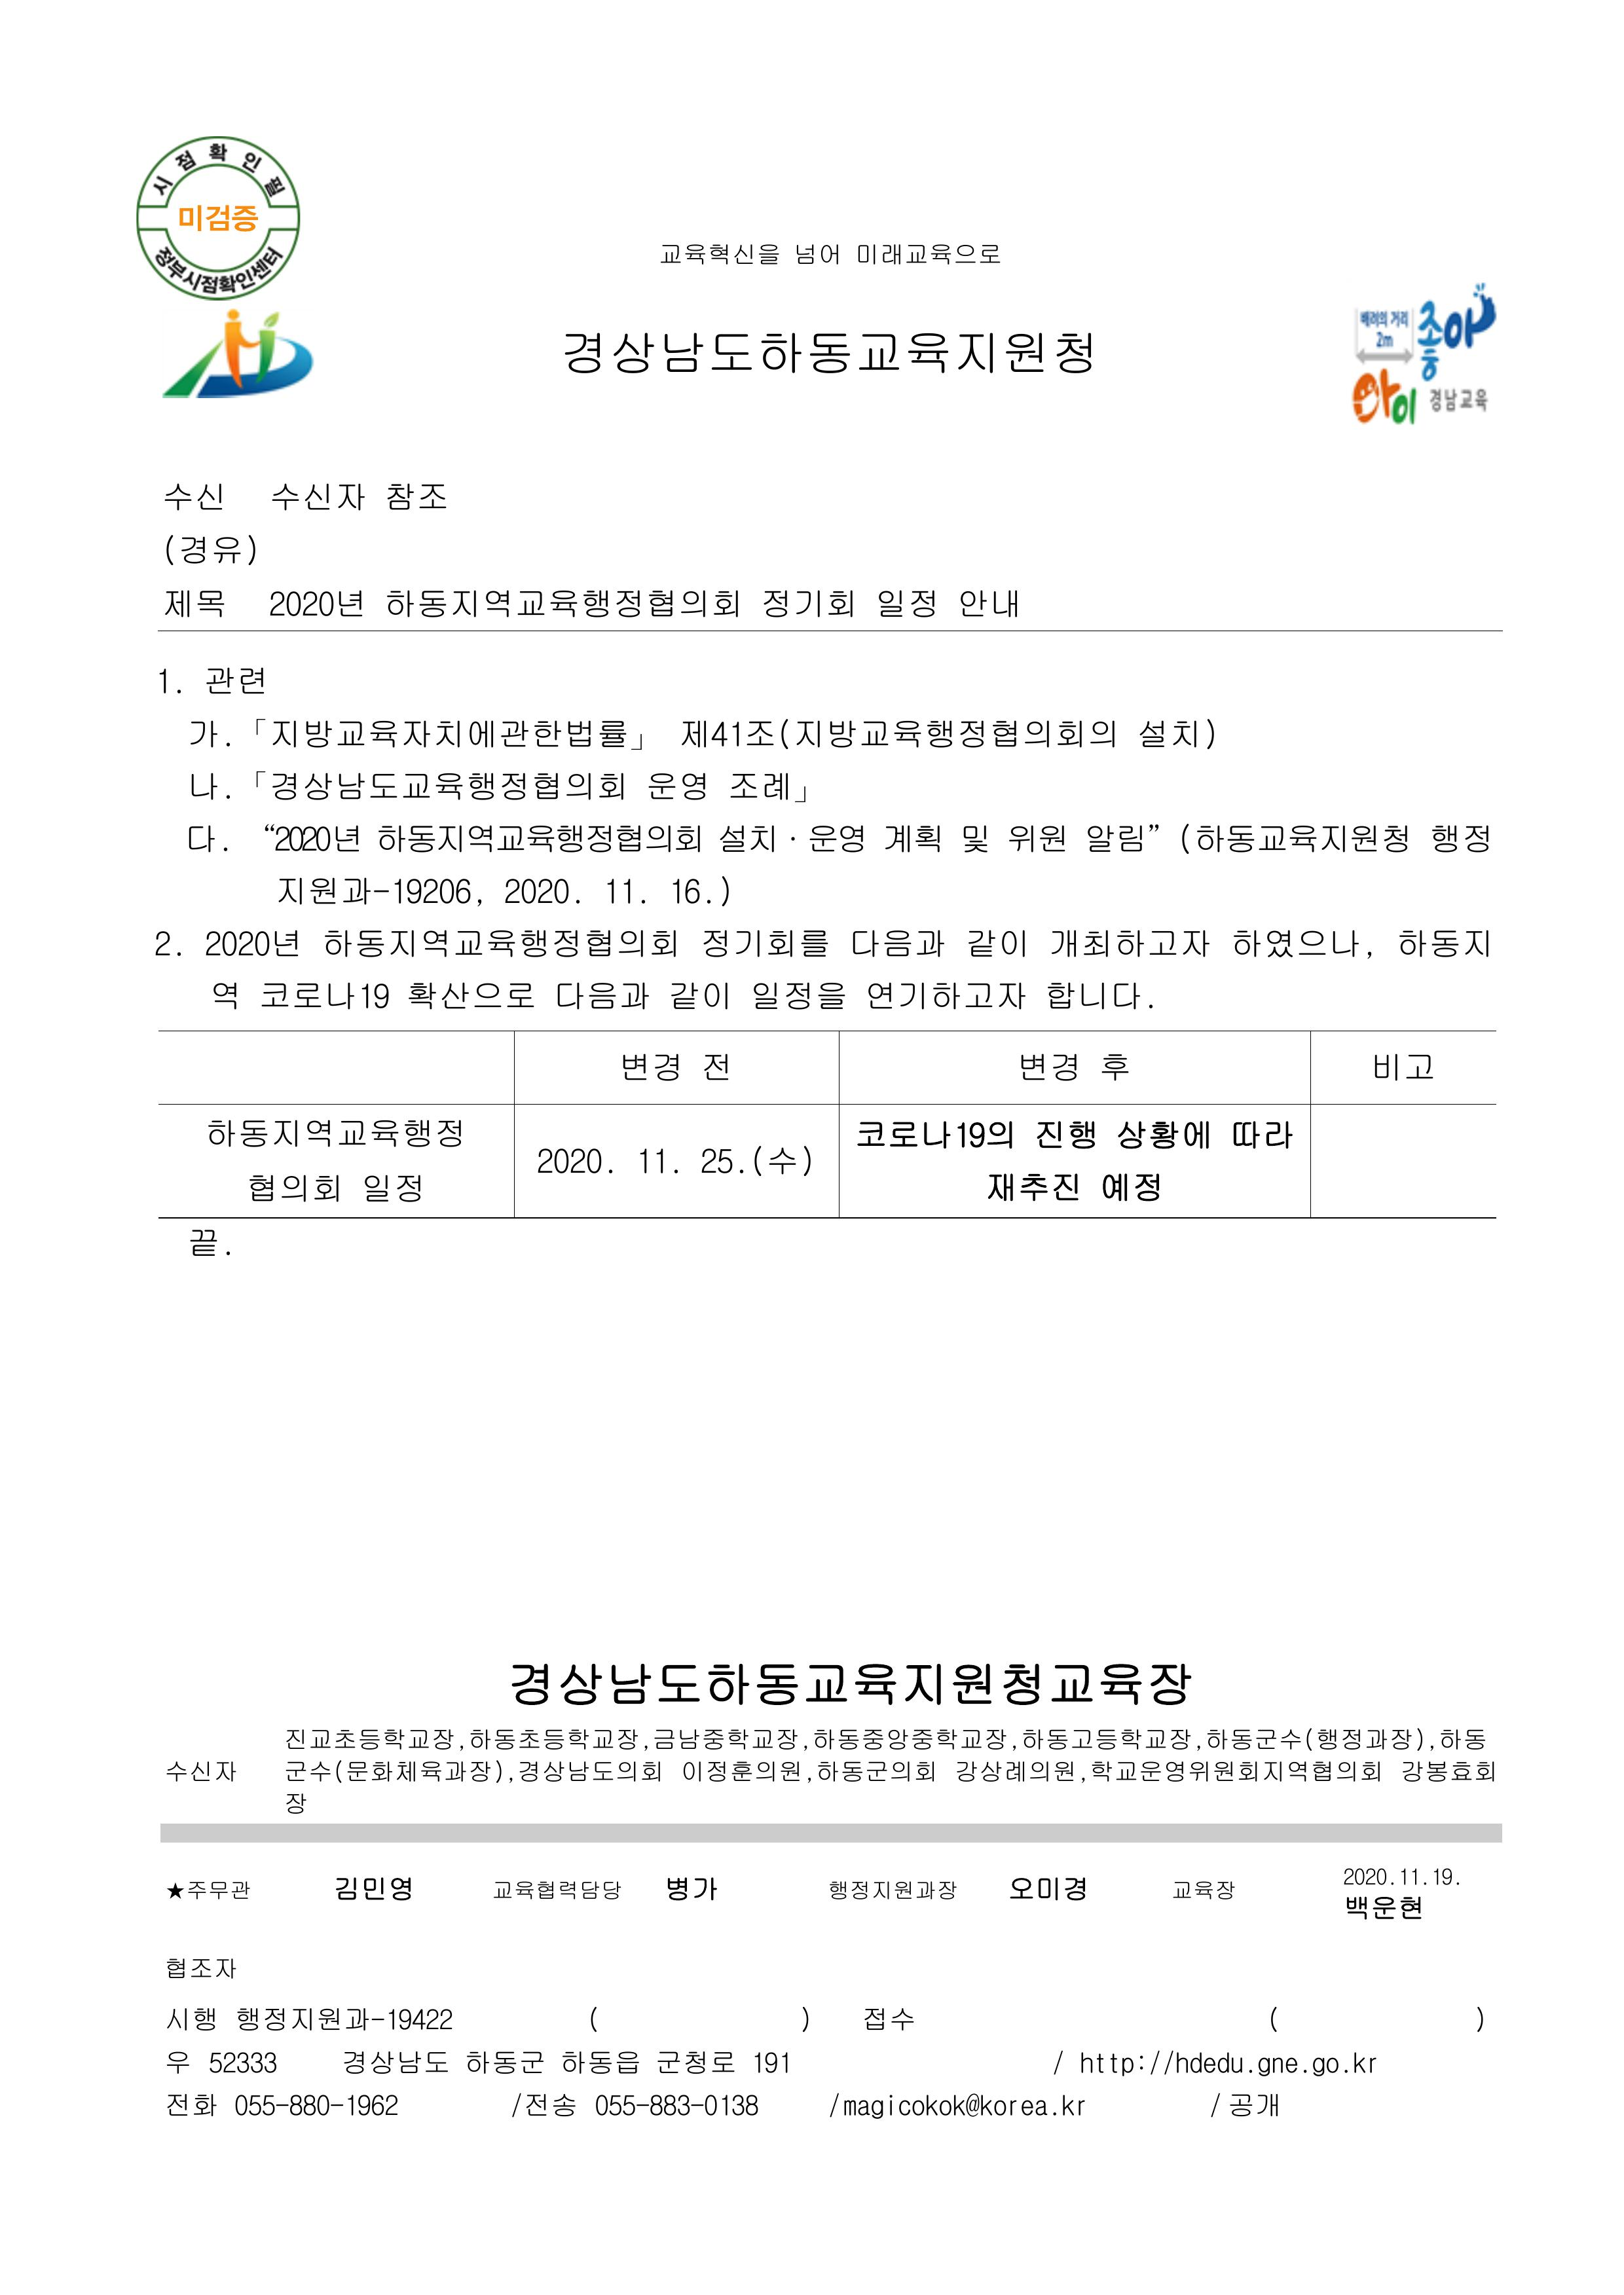t: (506, 1660, 1194, 1714), (559, 326, 1097, 380), (678, 713, 1118, 753), (807, 1720, 1205, 1756), (268, 713, 627, 753), (383, 584, 742, 623), (265, 767, 627, 803), (373, 817, 703, 856), (322, 925, 678, 961), (466, 1725, 810, 1753), (283, 1760, 659, 1786), (204, 1115, 462, 1150), (1172, 821, 1409, 856), (1201, 1725, 1488, 1753), (232, 2002, 455, 2038), (1409, 280, 1499, 362), (864, 975, 1025, 1014), (1047, 925, 1212, 961), (853, 1115, 1014, 1150), (1230, 925, 1373, 961), (283, 1725, 458, 1753), (699, 925, 828, 961), (885, 2091, 1051, 2119), (405, 979, 534, 1014), (616, 1047, 731, 1086), (1014, 1047, 1130, 1086), (1187, 1760, 1359, 1786), (1352, 369, 1424, 430), (261, 979, 394, 1011), (1111, 1115, 1212, 1154), (552, 975, 652, 1014), (749, 975, 846, 1014), (1043, 979, 1147, 1014), (276, 875, 390, 907), (853, 244, 1000, 268), (268, 477, 369, 513), (200, 925, 301, 961), (265, 584, 365, 620), (756, 584, 857, 620), (846, 925, 946, 961), (982, 1169, 1082, 1205), (341, 2047, 452, 2080), (161, 530, 258, 566), (1395, 925, 1492, 961), (247, 1169, 344, 1205), (953, 1760, 1090, 1786), (491, 1879, 623, 1904), (828, 1879, 961, 1904), (272, 821, 362, 856), (555, 2044, 642, 2080), (652, 2044, 739, 2080), (724, 767, 810, 803), (659, 244, 781, 268), (817, 1760, 936, 1786), (387, 875, 480, 907), (175, 200, 258, 236), (1137, 717, 1219, 753), (460, 2047, 545, 2082), (1086, 1757, 1187, 1786), (746, 1140, 817, 1179), (1082, 821, 1162, 856), (333, 1871, 416, 1904), (1398, 1757, 1492, 1786), (502, 875, 584, 907), (1341, 1890, 1424, 1922), (1007, 1871, 1086, 1904), (1033, 1115, 1097, 1154), (681, 1760, 778, 1786), (534, 1144, 610, 1176), (713, 821, 781, 856), (383, 477, 448, 513), (161, 584, 226, 620), (645, 767, 710, 803), (358, 1169, 423, 1205), (1097, 1169, 1162, 1205), (875, 584, 939, 620), (965, 925, 1029, 961), (1075, 2047, 1147, 2080), (1004, 821, 1069, 856), (1427, 821, 1492, 856), (667, 979, 731, 1014), (1230, 1115, 1295, 1150), (506, 2087, 577, 2119), (1424, 383, 1492, 416), (204, 663, 265, 699), (161, 480, 226, 513), (204, 2047, 280, 2076), (168, 1879, 251, 1904), (878, 821, 943, 853), (667, 875, 731, 907), (957, 588, 1022, 620), (1370, 1050, 1434, 1082), (1162, 2051, 1244, 2076), (807, 821, 864, 856), (1226, 2087, 1280, 2123), (663, 1871, 720, 1904), (168, 1760, 240, 1786), (164, 1958, 236, 1983), (699, 2090, 760, 2119), (341, 2090, 401, 2119), (631, 1144, 685, 1176), (695, 1144, 749, 1176), (161, 2090, 219, 2119), (602, 875, 652, 907), (1173, 1876, 1238, 1900), (164, 2004, 219, 2033), (186, 717, 232, 749), (229, 2090, 280, 2119), (287, 2094, 344, 2119), (649, 2094, 706, 2119), (591, 2090, 638, 2119), (864, 2008, 914, 2033), (183, 821, 222, 853), (749, 2047, 792, 2076), (186, 1226, 222, 1258), (796, 244, 842, 268), (1255, 2055, 1301, 2080), (186, 771, 226, 799), (957, 821, 989, 856), (842, 2097, 885, 2123), (1341, 1868, 1391, 1890), (212, 979, 240, 1011), (1308, 2055, 1341, 2080), (157, 670, 183, 695), (1352, 2055, 1380, 2076), (157, 928, 175, 961), (1398, 1868, 1424, 1890), (778, 1760, 803, 1782), (1359, 1764, 1384, 1786), (1431, 1868, 1456, 1890), (168, 2051, 190, 2076), (1061, 2097, 1086, 2119), (287, 1793, 308, 1818), (1420, 358, 1438, 383)
